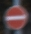No entry: (5, 6, 26, 29)
